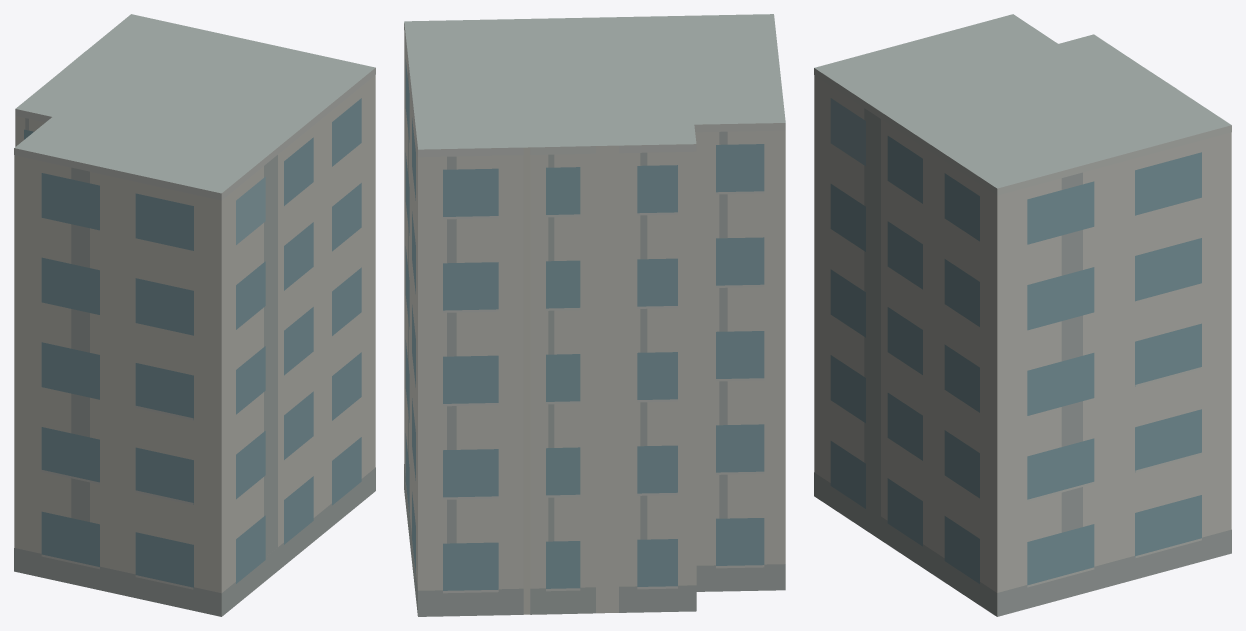
File: residential-ad4b7745-4464-4749-a46e-ce333ca6276c.glb
3 renders of one model, left to right at view 1: azimuth 30°, elevation 25°; view 2: azimuth 150°, elevation 25°; view 3: azimuth 270°, elevation 25°, orthographic. The views are drawn at different scales.
Visible parts, largest first — view 1: residential-ad4b7745-4464-4749-a46e-ce333ca6276c.tmp; view 2: residential-ad4b7745-4464-4749-a46e-ce333ca6276c.tmp; view 3: residential-ad4b7745-4464-4749-a46e-ce333ca6276c.tmp.
Part boxes in pixels (x1,y1,x2,y2): residential-ad4b7745-4464-4749-a46e-ce333ca6276c.tmp: (14,14,375,616); residential-ad4b7745-4464-4749-a46e-ce333ca6276c.tmp: (404,14,785,616); residential-ad4b7745-4464-4749-a46e-ce333ca6276c.tmp: (814,14,1231,616).
Bounding box in the file's own units: 12.95 × 14.8 × 13.09.
